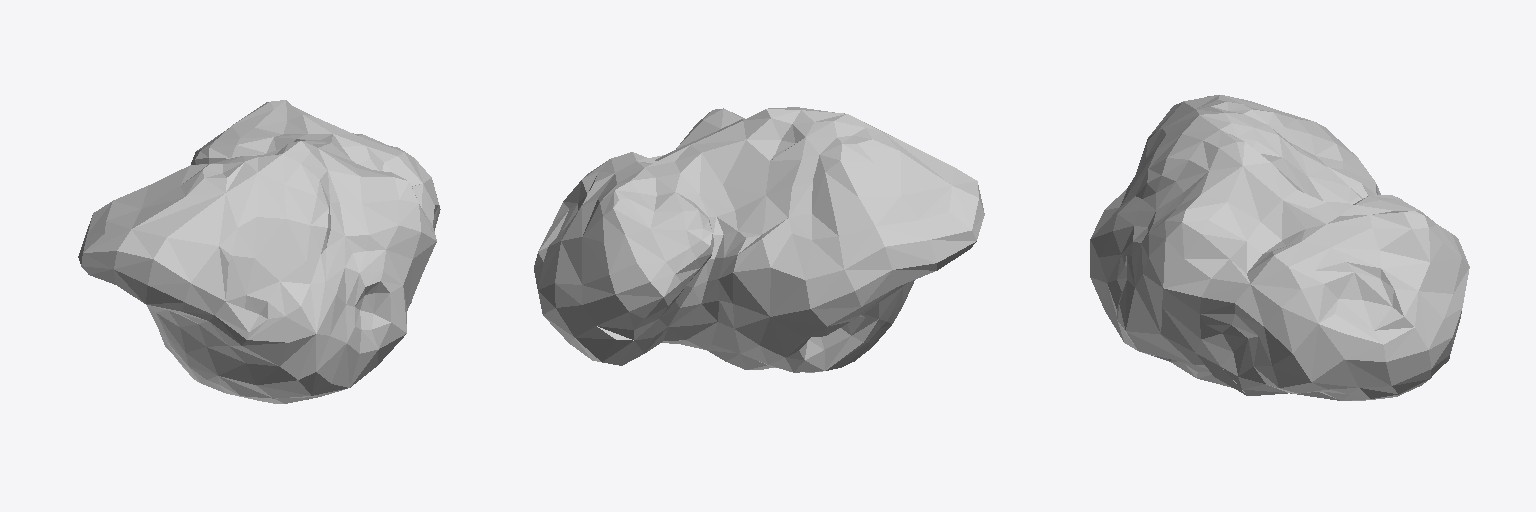
File: asteroid_03.obj
3 renders of one model, left to right at view 1: azimuth 30°, elevation 25°; view 2: azimuth 150°, elevation 25°; view 3: azimuth 270°, elevation 25°, orthographic.
Parts seen in each view (by area): view 1: prop_asteroid_03_Untitled.001; view 2: prop_asteroid_03_Untitled.001; view 3: prop_asteroid_03_Untitled.001.
Boxes of the visible parts, box(x1,y1,x2,y2) form: prop_asteroid_03_Untitled.001: box(78, 100, 440, 403); prop_asteroid_03_Untitled.001: box(534, 107, 984, 372); prop_asteroid_03_Untitled.001: box(1090, 95, 1469, 400).
Size of the model in its own units: 1.57 by 0.9852 by 1.35.